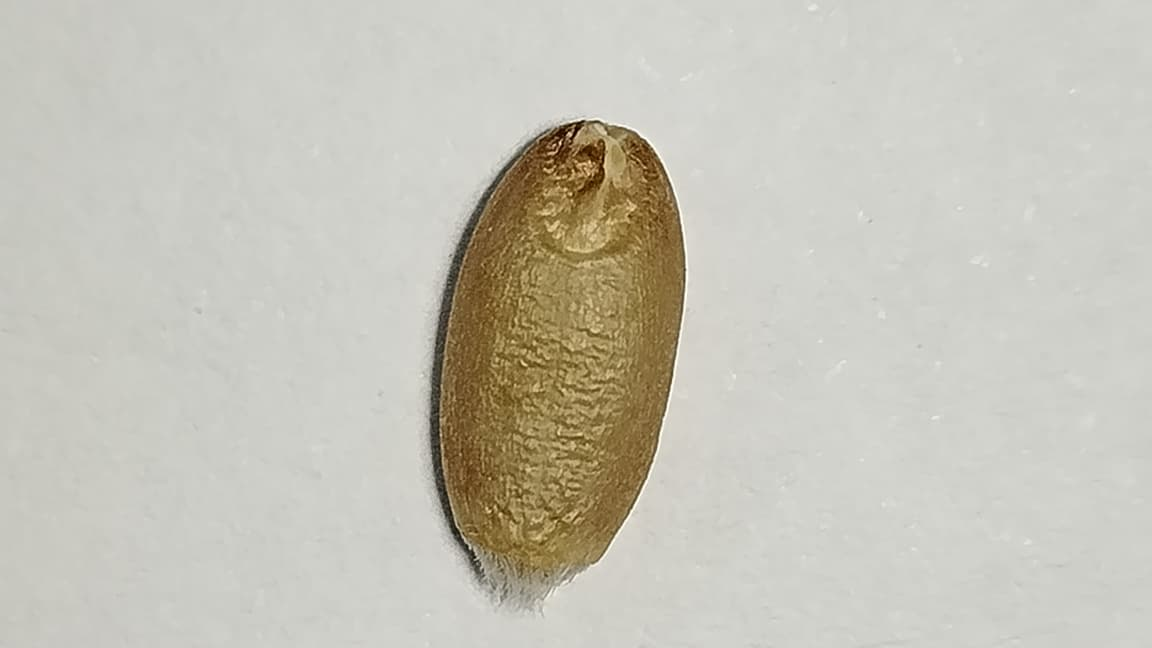healthy: (441, 121, 684, 568)
